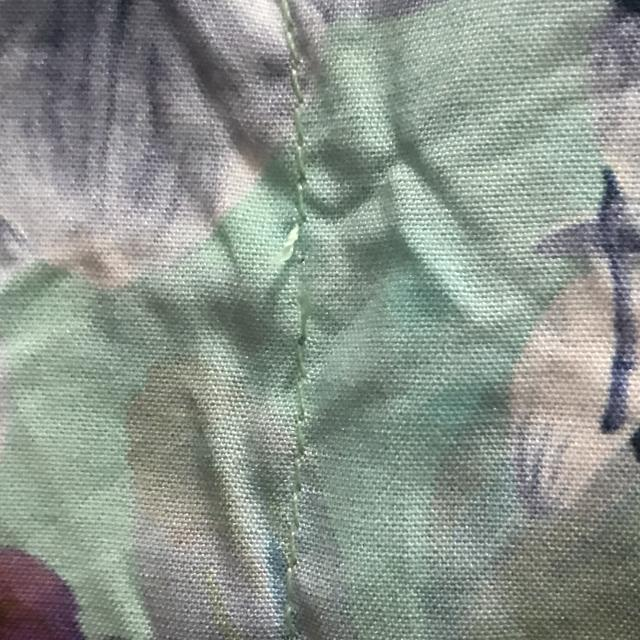broken: (240, 206, 354, 392)
good: (267, 442, 316, 566)
